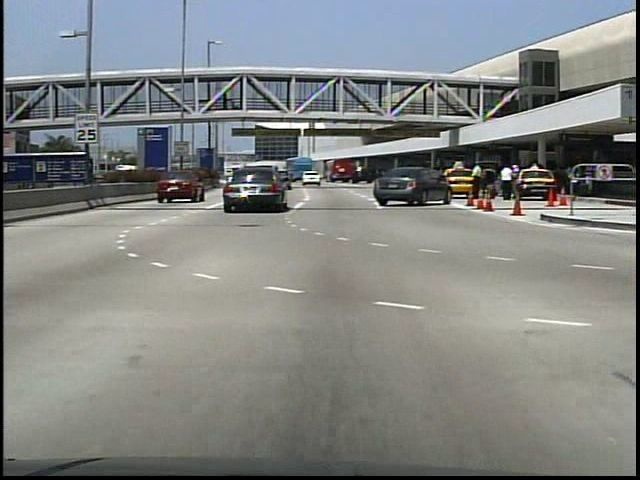person: (498, 163, 519, 203), (471, 164, 489, 205), (565, 167, 583, 205), (511, 164, 523, 202), (222, 93, 232, 114)
